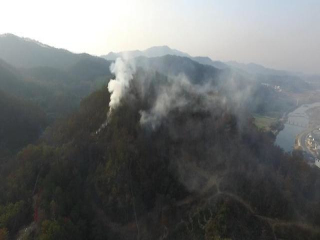smoke: (91, 52, 281, 145)
